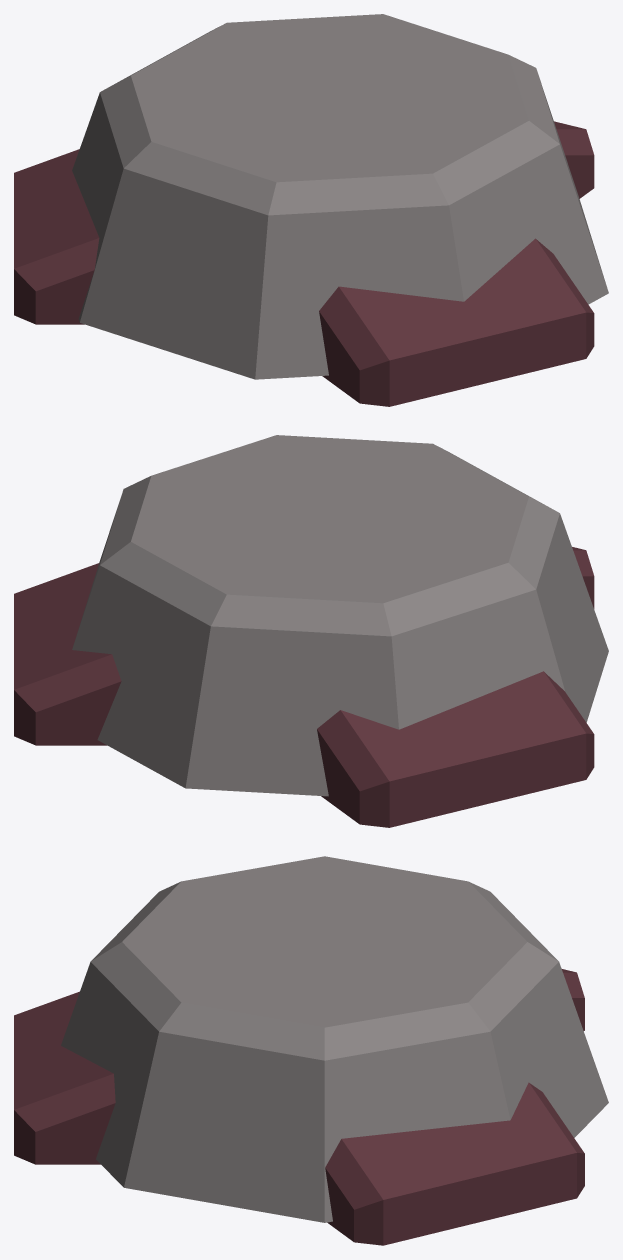
Rendered from scifi-scifi-turret-base-circle-three-small.glb.
3 renders of one model, top to bottom at view 1: azimuth 30°, elevation 25°; view 2: azimuth 150°, elevation 25°; view 3: azimuth 270°, elevation 25°, orthographic.
Visible parts, largest first — view 1: scifi-turret-base-circle-three-small; view 2: scifi-turret-base-circle-three-small; view 3: scifi-turret-base-circle-three-small.
Boxes of the visible parts, box(x1,y1,x2,y2) form: scifi-turret-base-circle-three-small: box(14, 14, 608, 406); scifi-turret-base-circle-three-small: box(14, 435, 608, 827); scifi-turret-base-circle-three-small: box(14, 856, 608, 1245).
Size of the model in its own units: 1.46 by 0.4134 by 1.34.
